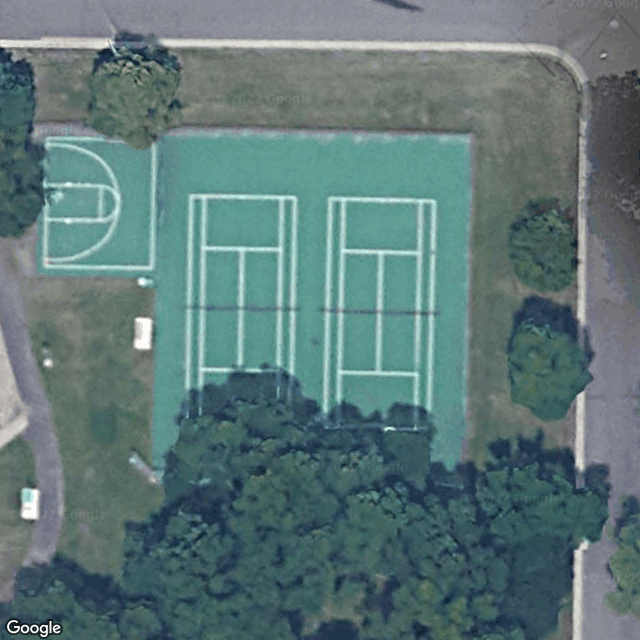Court: (186, 192, 299, 432), (325, 196, 437, 432)
